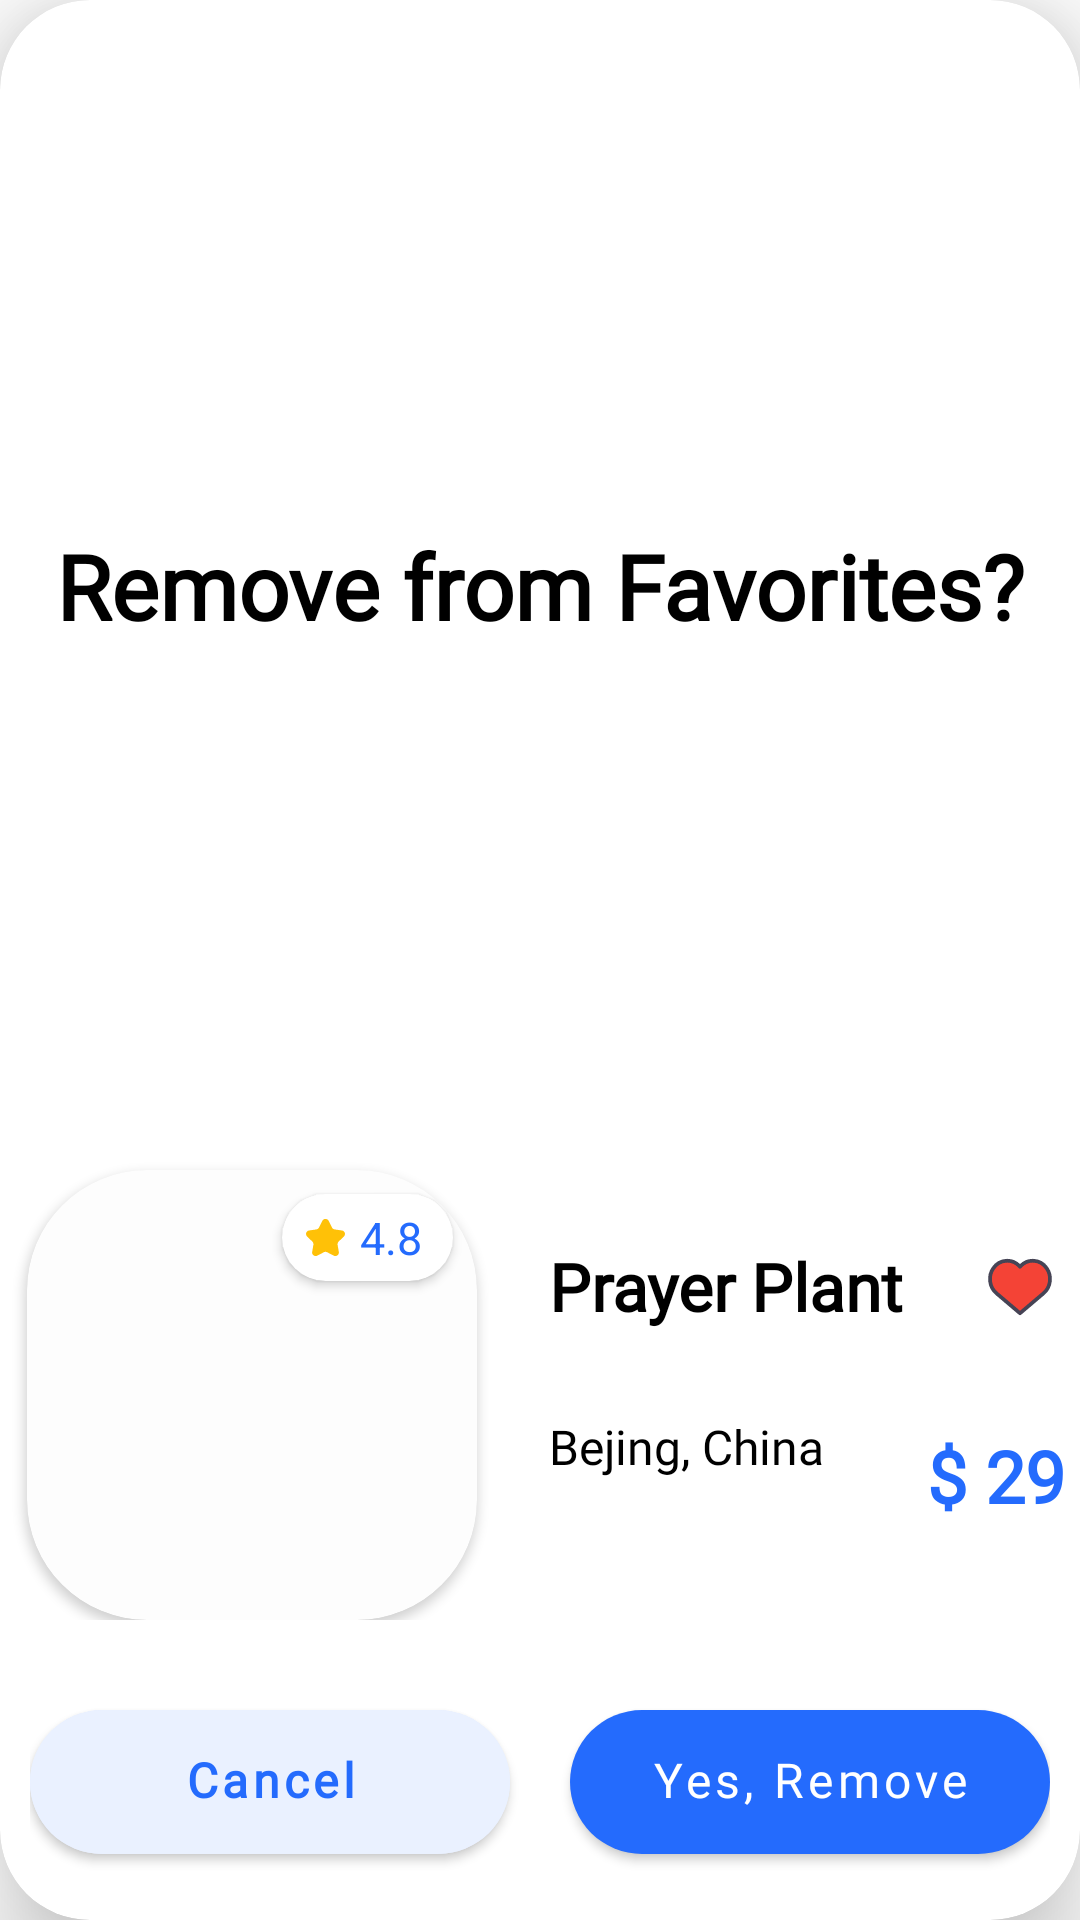

Icons on this 1080*1920 Android screen, each with its box as [x1, y1, x2, y2]:
heart: [988, 1259, 1052, 1315]
star: [306, 1219, 345, 1256]
